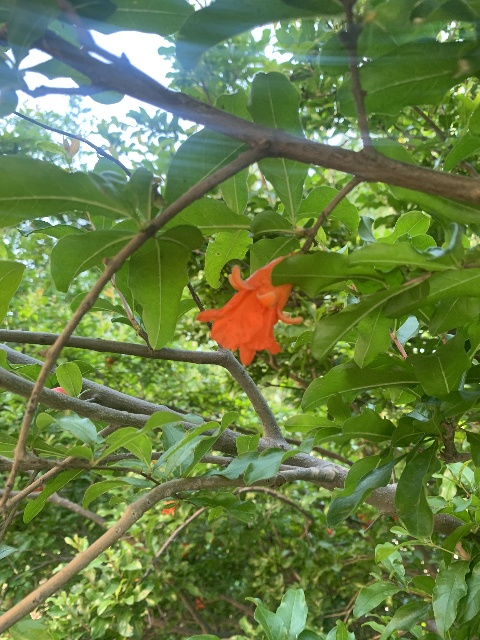flower: (196, 254, 300, 367), (162, 501, 176, 514)
